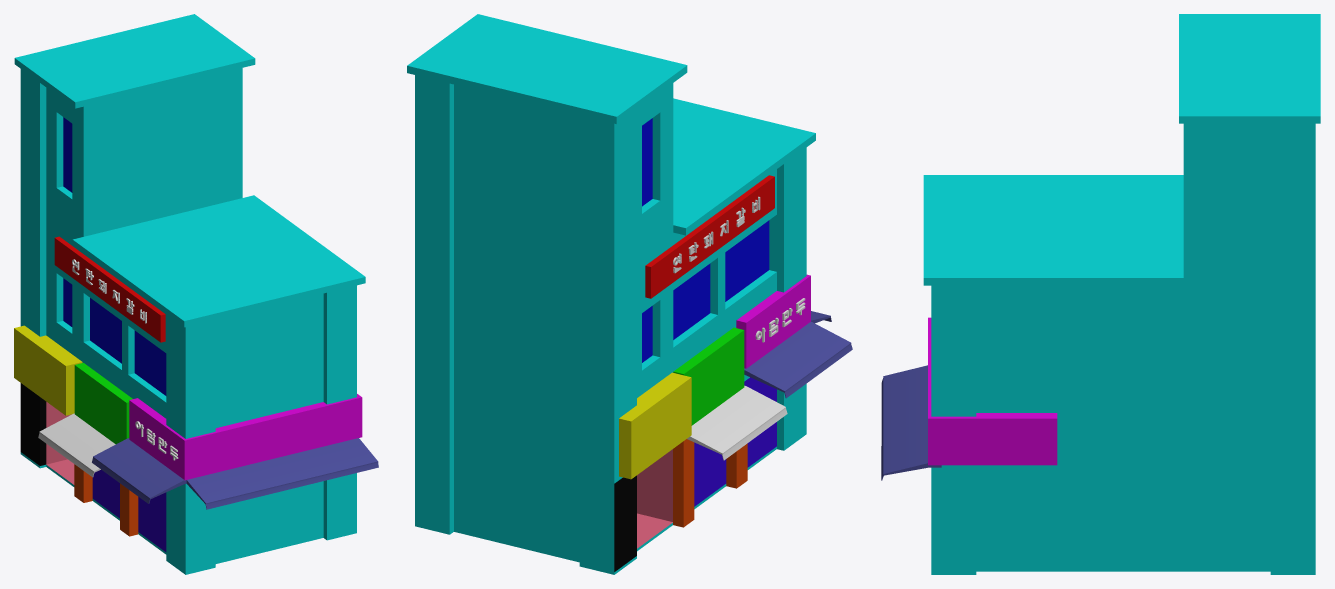
The model's file is Building_15.fbx.
The picture shows the model from 3 angles, left to right: view 1: azimuth 30°, elevation 25°; view 2: azimuth 150°, elevation 25°; view 3: azimuth 270°, elevation 25°; orthographic projection. The views are drawn at different scales.
Visible parts, largest first — view 1: Building_15, typeMesh44; view 2: Building_15, typeMesh44; view 3: Building_15.
Part boxes in pixels (left/top/right/bottom): Building_15: left=14, top=14, right=378, bottom=574; typeMesh44: left=72, top=259, right=146, bottom=323; Building_15: left=407, top=14, right=852, bottom=574; typeMesh44: left=673, top=196, right=760, bottom=273; Building_15: left=881, top=14, right=1320, bottom=574.
Size of the model in its own units: 120 by 212 by 182.
